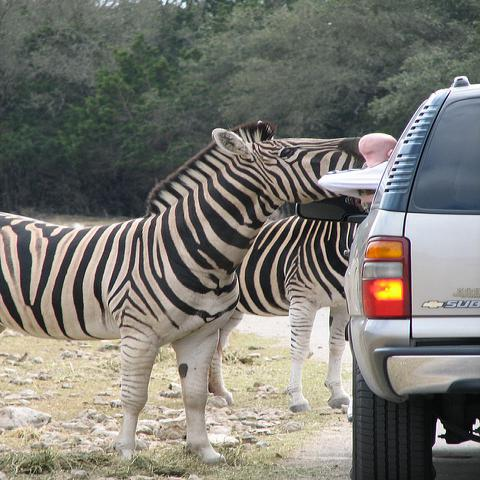car: (305, 88, 475, 472)
